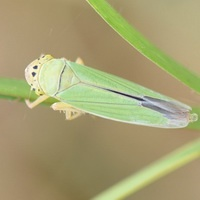insect: (25, 55, 196, 127)
